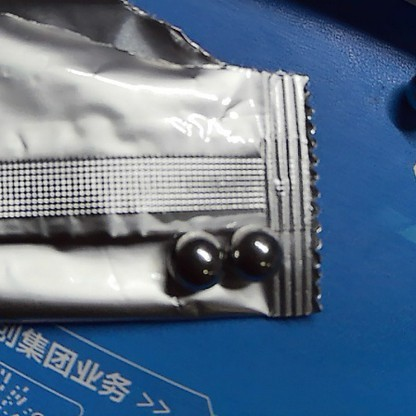ironball: (217, 212, 287, 285), (151, 219, 225, 285)
